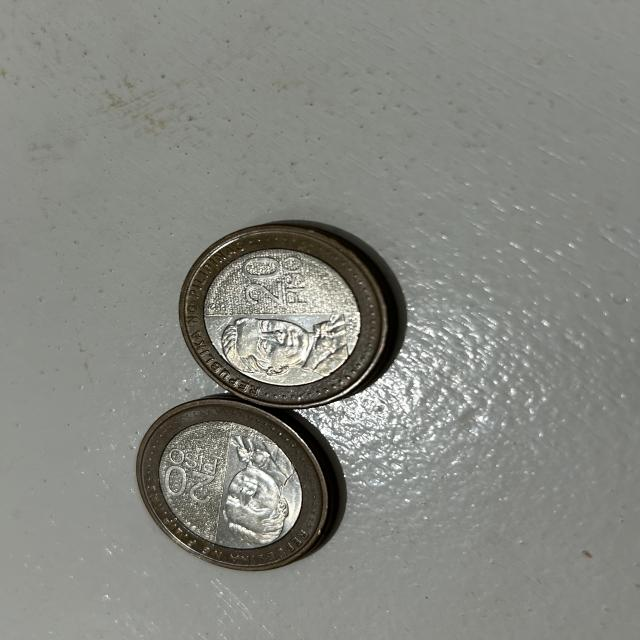20_New_Front: (234, 254, 319, 310), (156, 439, 219, 510)
